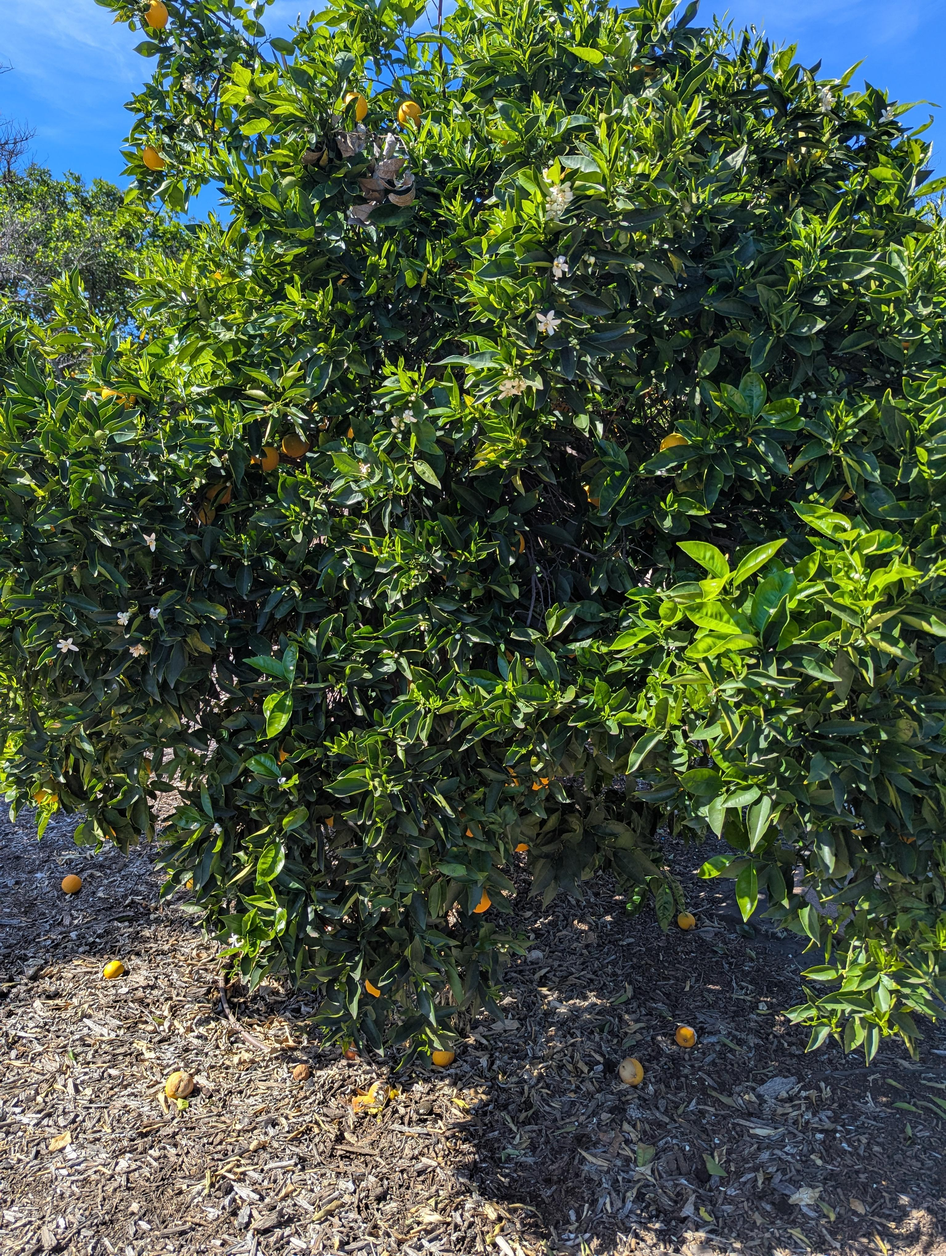orange: (101, 378, 136, 411), (282, 428, 312, 460), (442, 551, 470, 580), (250, 446, 280, 471), (397, 101, 422, 130), (145, 0, 169, 29), (343, 92, 367, 121), (142, 146, 166, 171), (205, 483, 233, 504), (660, 433, 689, 452), (473, 887, 492, 913), (196, 499, 215, 524), (582, 484, 600, 509), (33, 788, 59, 804), (632, 64, 656, 81), (532, 774, 554, 791), (511, 529, 525, 554), (277, 742, 291, 765), (365, 978, 380, 998), (505, 766, 519, 786), (142, 757, 153, 775), (506, 650, 524, 661), (455, 273, 473, 283), (552, 400, 568, 411), (361, 544, 380, 553), (899, 835, 916, 844), (841, 488, 853, 500), (338, 274, 350, 285), (106, 825, 116, 838), (325, 814, 334, 828), (515, 843, 530, 851), (646, 386, 653, 399), (186, 876, 193, 889), (348, 426, 354, 439), (466, 828, 474, 837), (901, 342, 910, 348), (352, 759, 363, 763), (71, 371, 76, 377), (567, 655, 577, 658)
